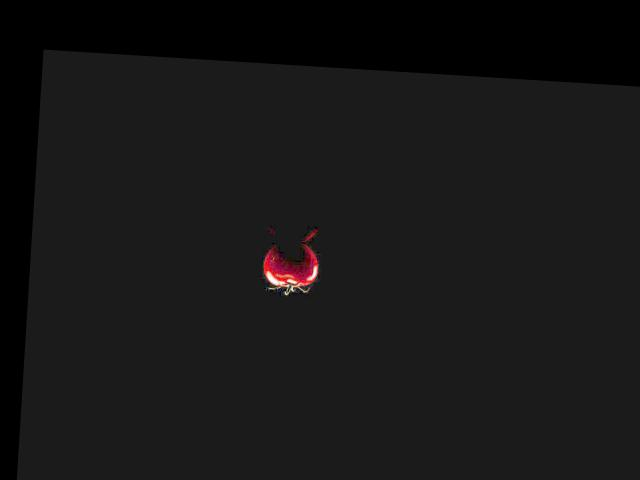tomato: (261, 242, 319, 289)
